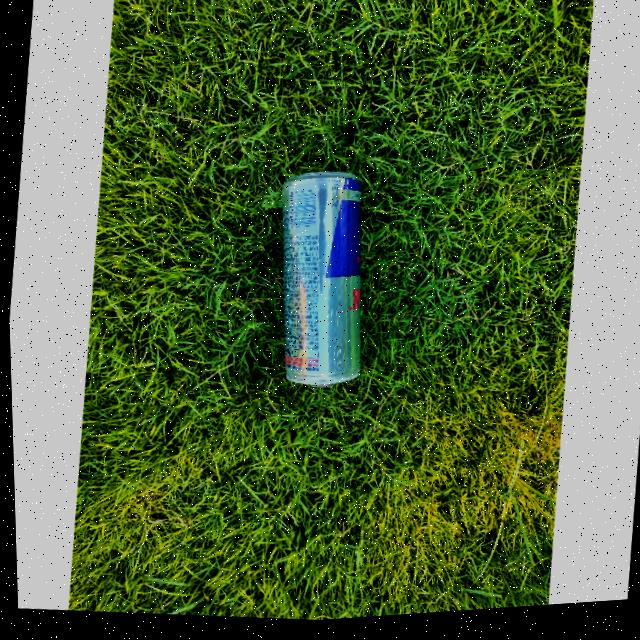Redbull: (264, 168, 376, 395)
